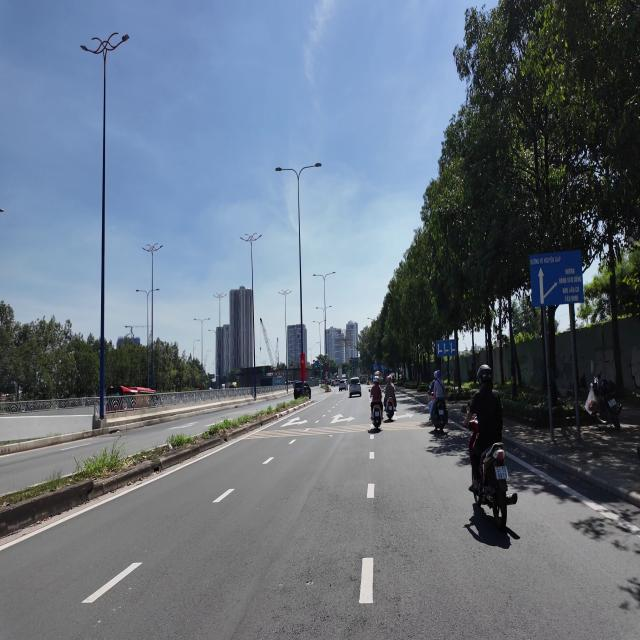car: (294, 381, 311, 399), (349, 378, 361, 397), (339, 380, 346, 391)
motorcycle: (474, 443, 517, 530), (432, 398, 448, 431), (385, 396, 395, 421), (372, 402, 381, 429)
